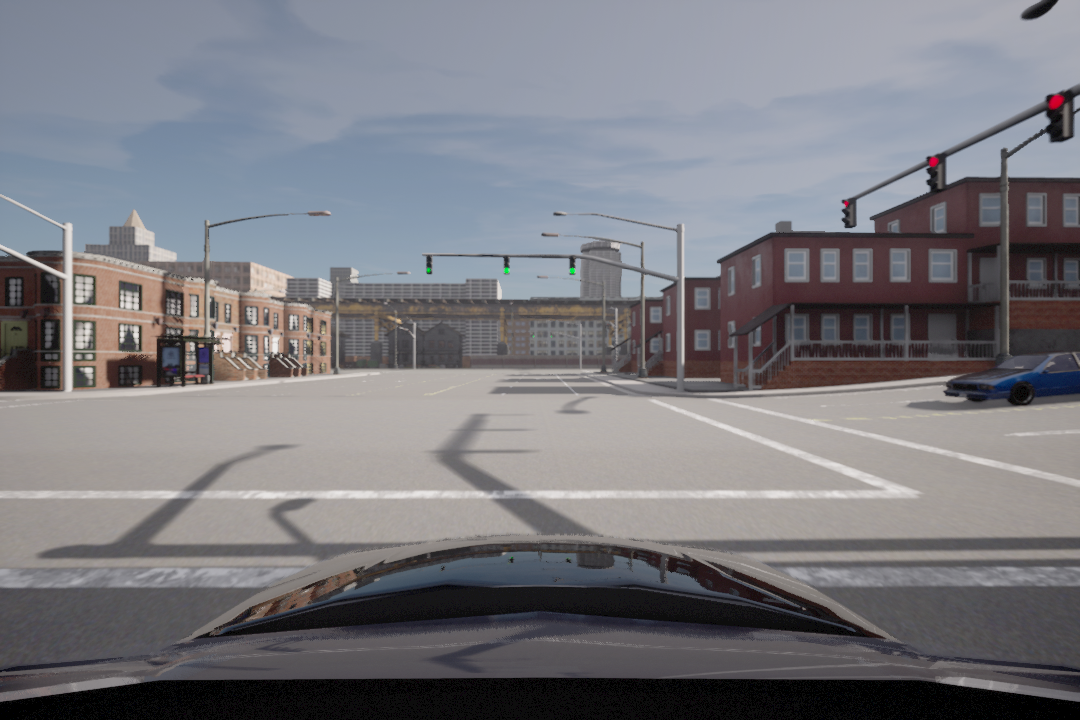TrafficLight: (1044, 89, 1077, 143), (926, 152, 954, 196), (841, 198, 864, 228), (423, 253, 437, 277), (567, 254, 578, 277), (503, 257, 510, 275)
